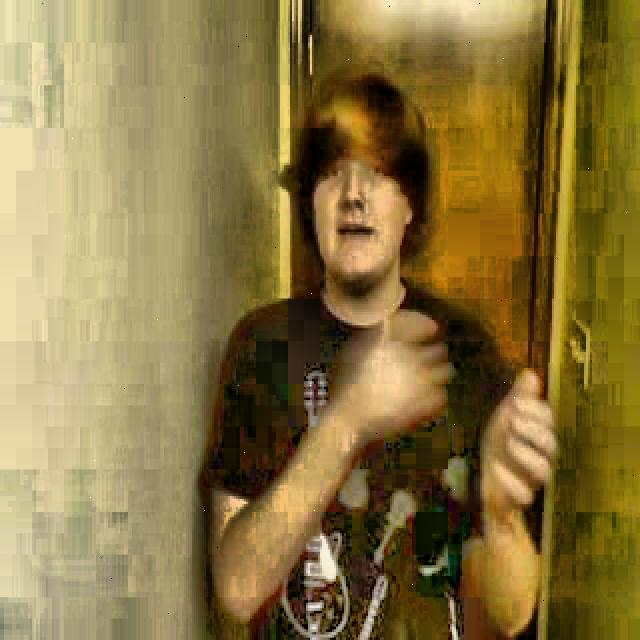F: (209, 83, 535, 640)
